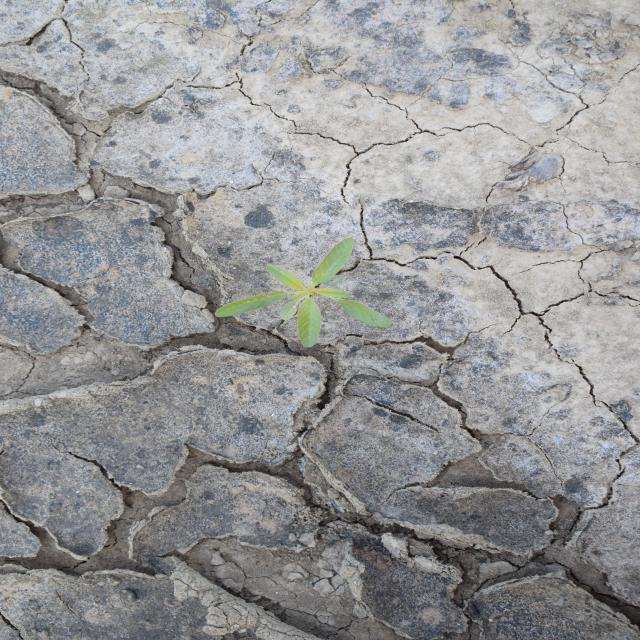Waterhemp: (212, 235, 394, 349)
